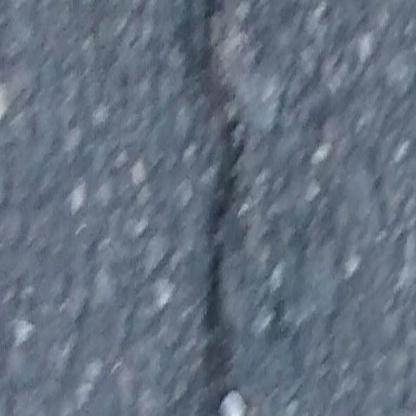Cracks: (172, 0, 266, 416)
